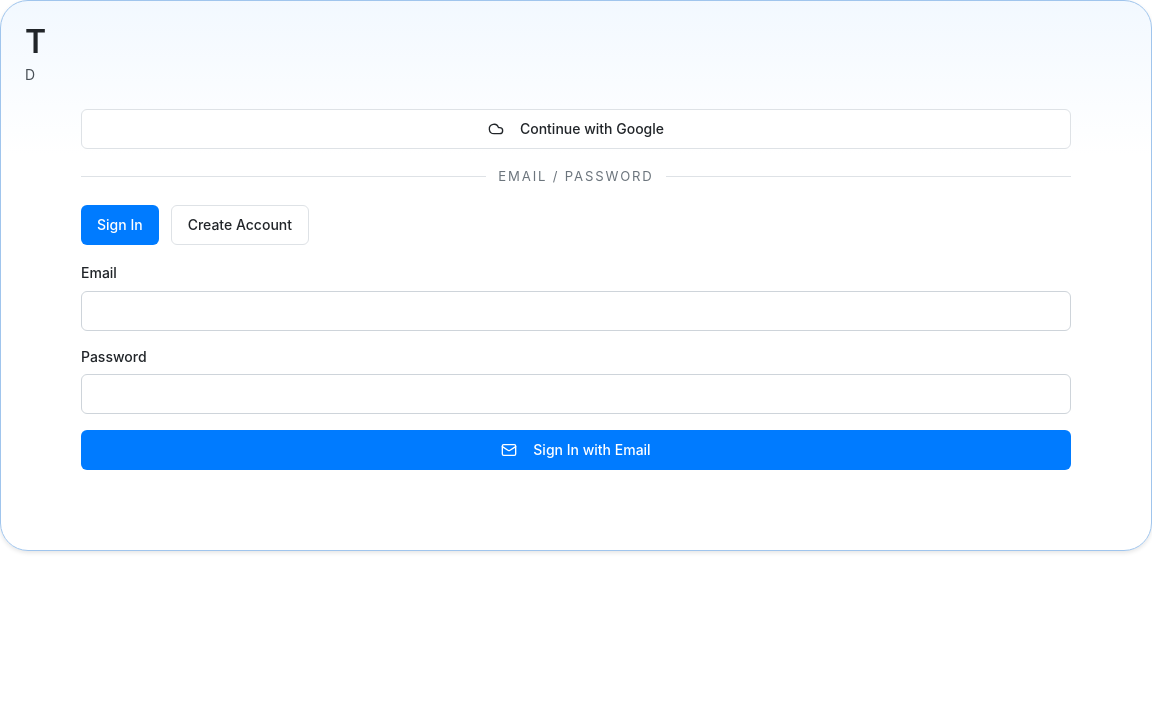
BetaAuthCard › handles email sign-up with password mismatch
Click the button "Create Account": coordinates (240, 225) [171,205,309,245]
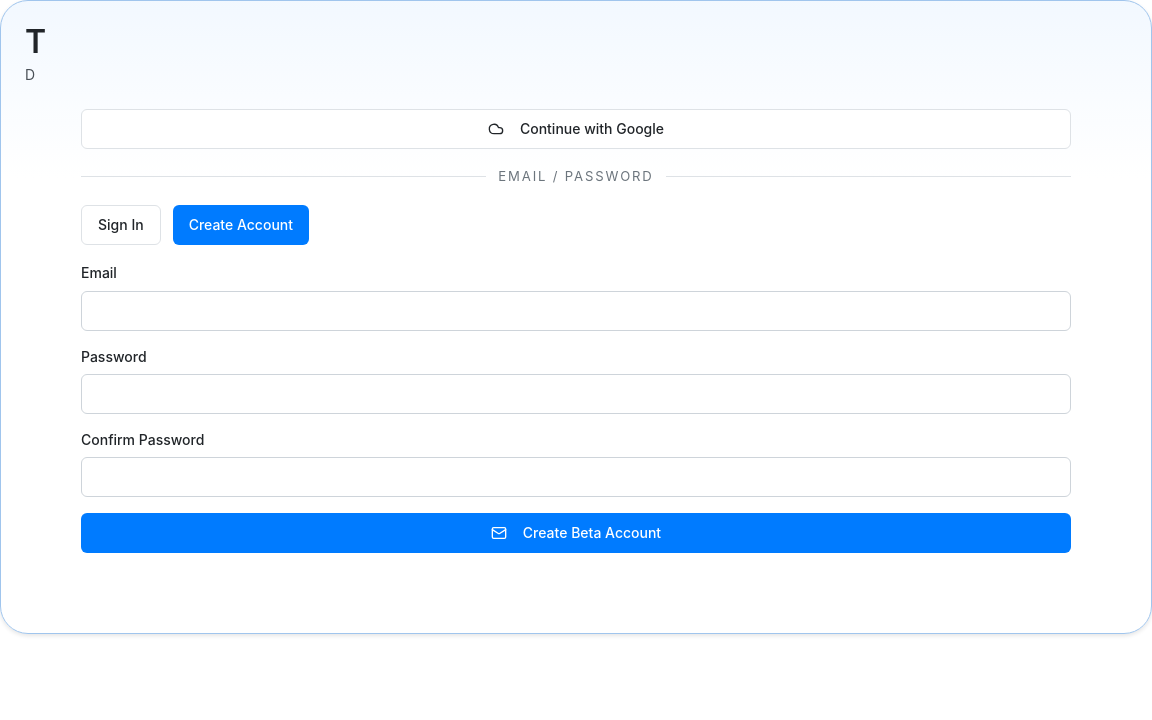
In the field labelled "Email": coordinates (576, 311) [81,291,1071,331], type "new@example.com"
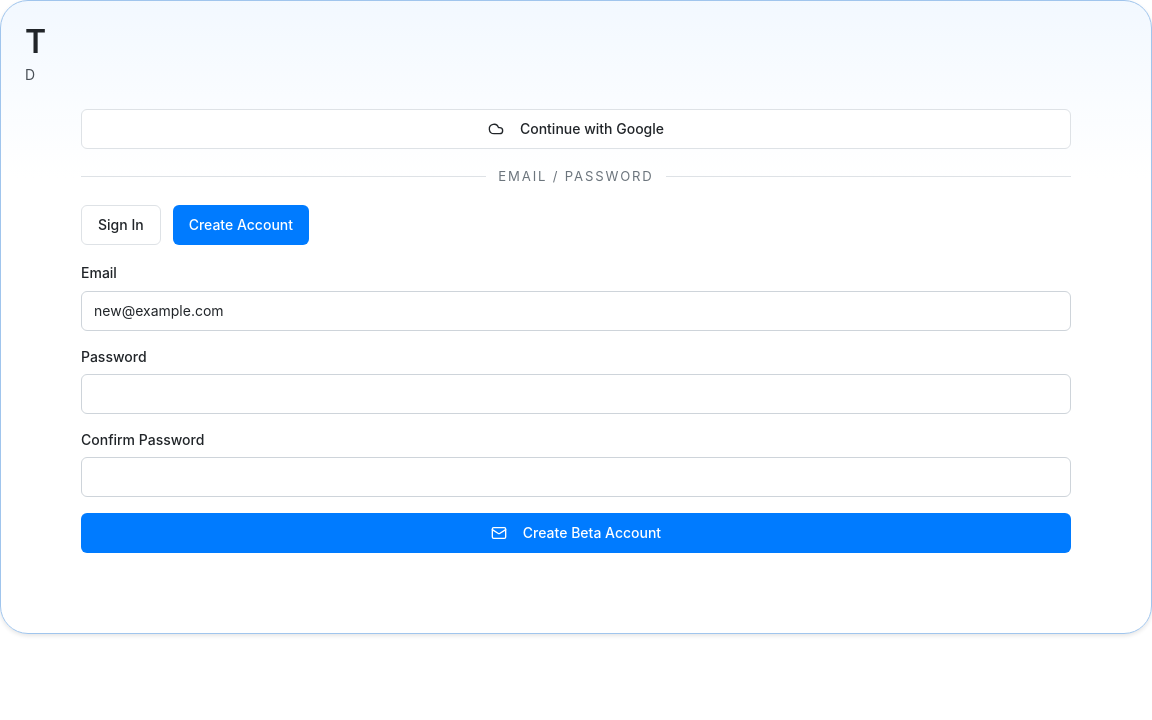
In the password field labelled "Password": coordinates (576, 394) [81,374,1071,414], type "password123"
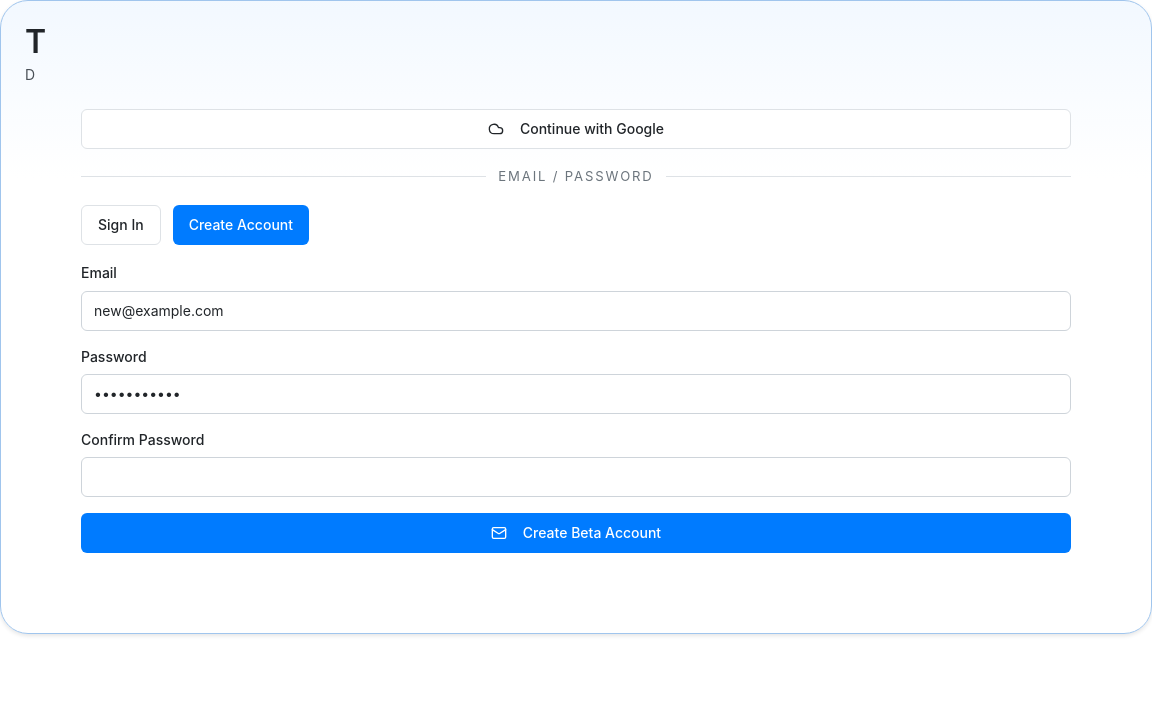
In the password field labelled "Confirm Password": coordinates (576, 477) [81,457,1071,497], type "mismatch"
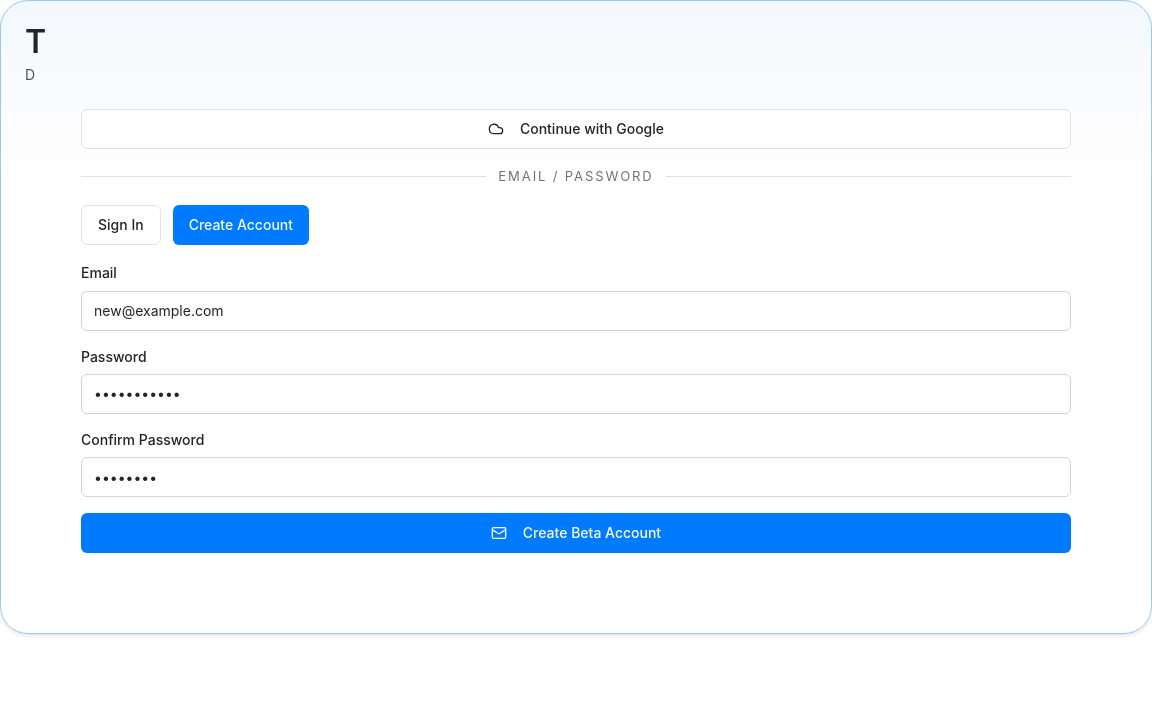
Click the button "Create Beta Account": coordinates (576, 533) [81,513,1071,553]
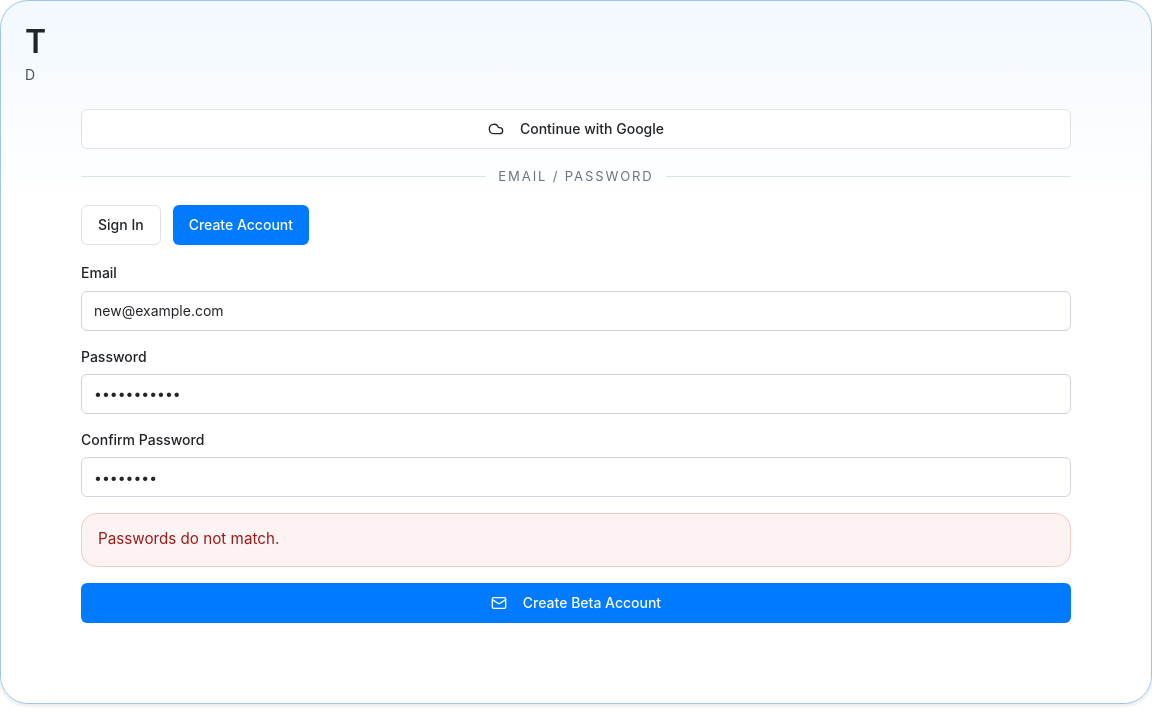
Expected: the text "Passwords do not match." is shown, [81,513,1071,567]
